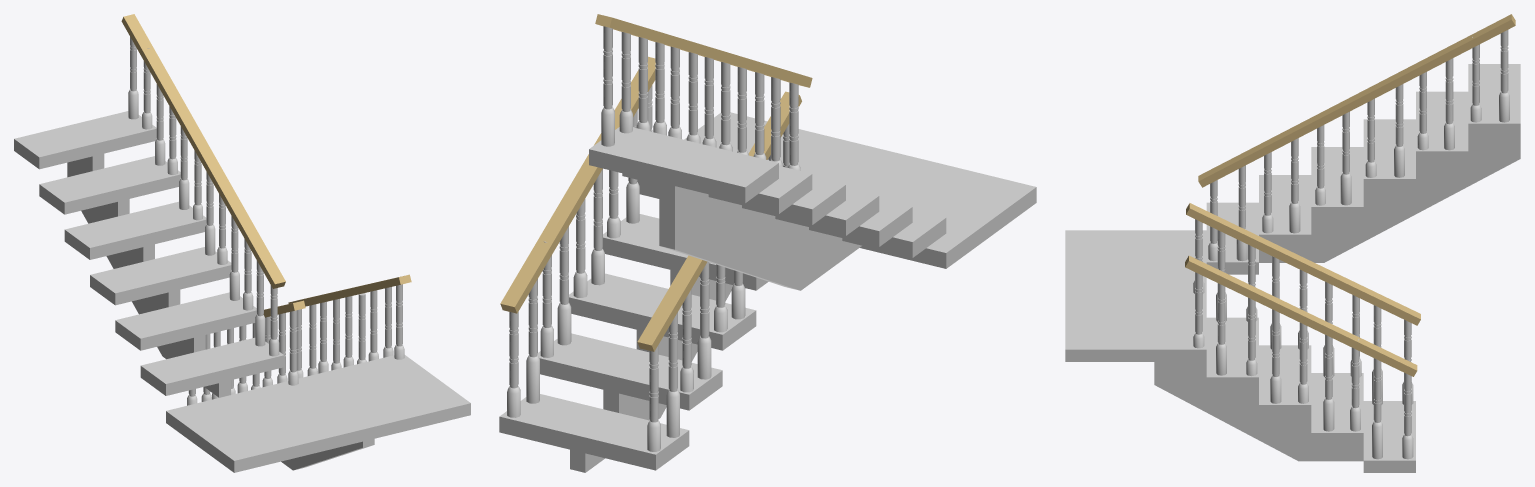
Rendered from eGCQotGGUVo.glb.
3 views of the same model, side by side, from view 1: azimuth 30°, elevation 25°; view 2: azimuth 150°, elevation 25°; view 3: azimuth 270°, elevation 25° (orthographic). The views are drawn at different scales.
Visible parts, largest first — view 1: Stair, Box001; view 2: Stair, Box001; view 3: Stair, Box001.
Boxes of the visible parts, x1,y1,x2,y2 form: Stair: [14, 37, 470, 472]; Box001: [121, 14, 411, 317]; Stair: [499, 26, 1036, 472]; Box001: [500, 14, 812, 351]; Stair: [1065, 30, 1520, 472]; Box001: [1185, 14, 1515, 376].
Bounding box in the file's own units: 0.6278 × 1 × 1.01.
